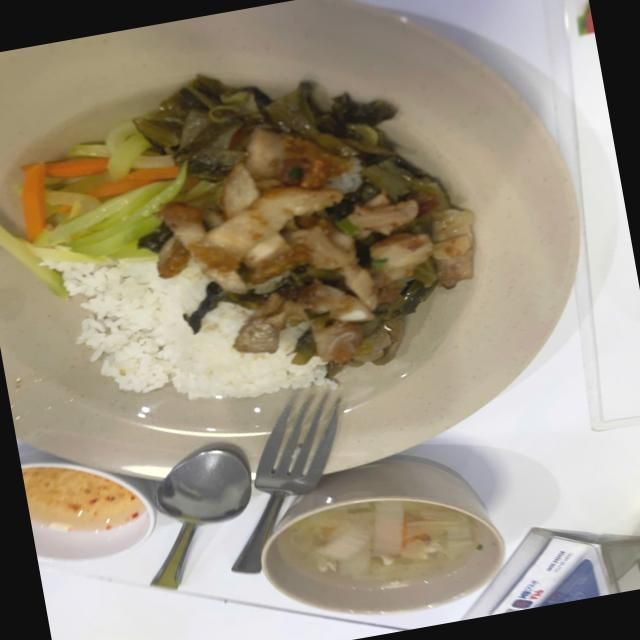canh cai: (276, 499, 485, 587)
com: (45, 257, 325, 399)
kho tieu: (138, 83, 473, 365)
nuoc mam: (21, 467, 144, 531)
rau: (0, 121, 217, 296)
